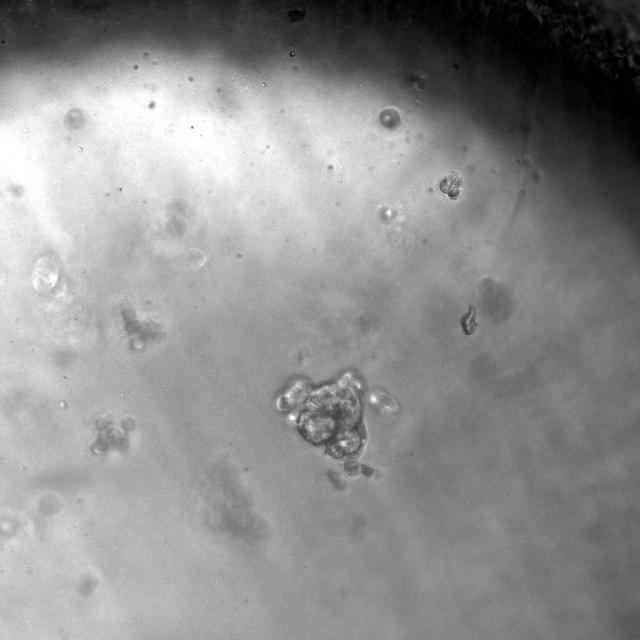organoid: (276, 369, 374, 477), (117, 300, 166, 351), (91, 415, 136, 455), (438, 170, 462, 200), (379, 108, 400, 130), (289, 49, 296, 57)
